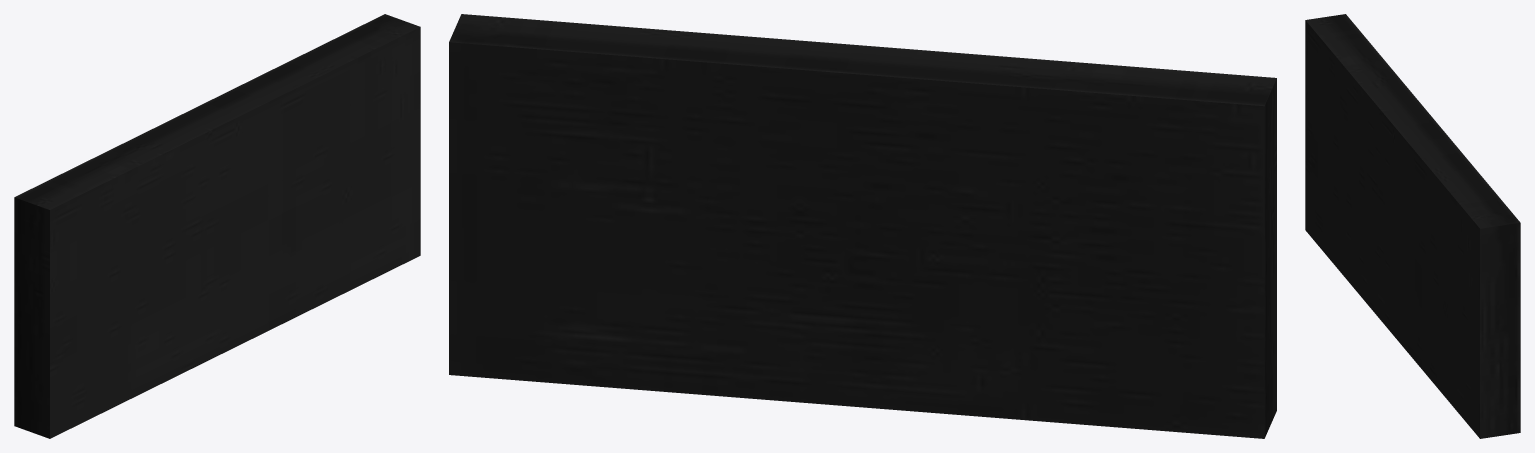
File: backrest__back_pad.glb
3 views of the same model, side by side, from view 1: azimuth 30°, elevation 25°; view 2: azimuth 150°, elevation 25°; view 3: azimuth 270°, elevation 25° (orthographic). The views are drawn at different scales.
Visible parts, largest first — view 1: world; view 2: world; view 3: world.
Boxes of the visible parts, x1,y1,x2,y2 form: world: (14,14,420,438); world: (449,14,1276,438); world: (1305,14,1520,438).
Bounding box in the file's own units: 0.5918 × 0.27 × 0.2506.
1 material, 1 textured.
